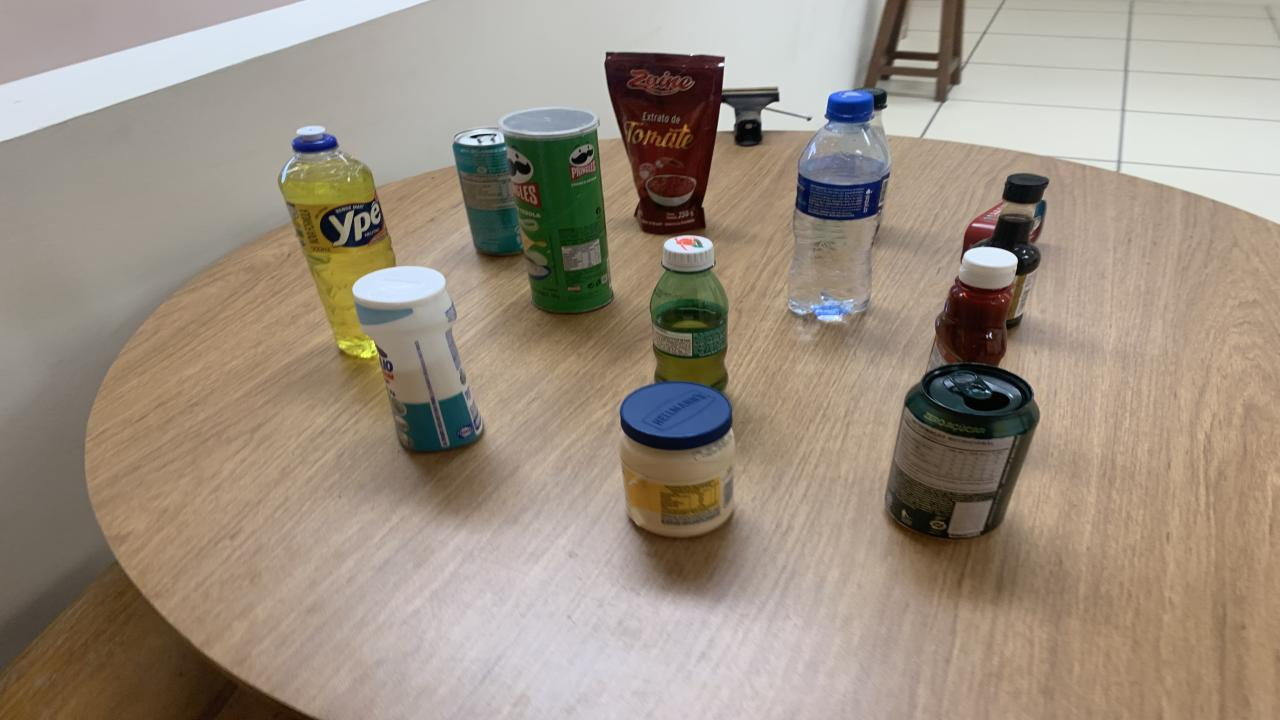Cleaner-Cleanup_Items: (352, 266, 482, 452)
Detergent-Cleanup_Items: (280, 126, 395, 358)
English_Sauce-Pantry_Items: (972, 172, 1050, 326)
Guarana-Drinks: (650, 234, 728, 392)
Guarana_Can-Drinks: (885, 364, 1040, 538)
Ketchup-Pantry_Items: (928, 248, 1018, 371)
Mayonnaise-Pantry_Items: (620, 382, 735, 538)
Pringles-Snacks: (500, 107, 612, 313)
Tea-Drinks: (452, 128, 522, 255)
Tomato_Sauce-Pantry_Items: (605, 52, 725, 234)
Tuna_Can-Pantry_Items: (962, 202, 1005, 251), (1030, 201, 1048, 244)
Water_Bottle-Drinks: (788, 92, 890, 321)
